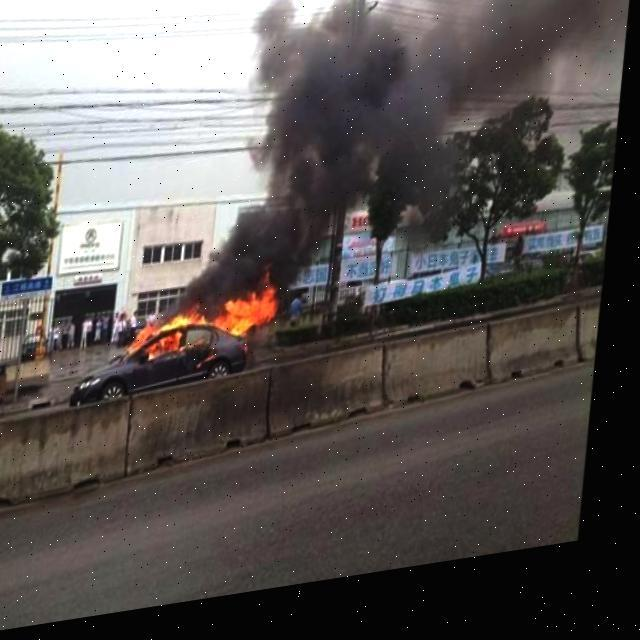Fire: (140, 273, 292, 381)
